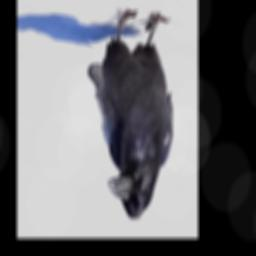Crow: (86, 8, 174, 222)
